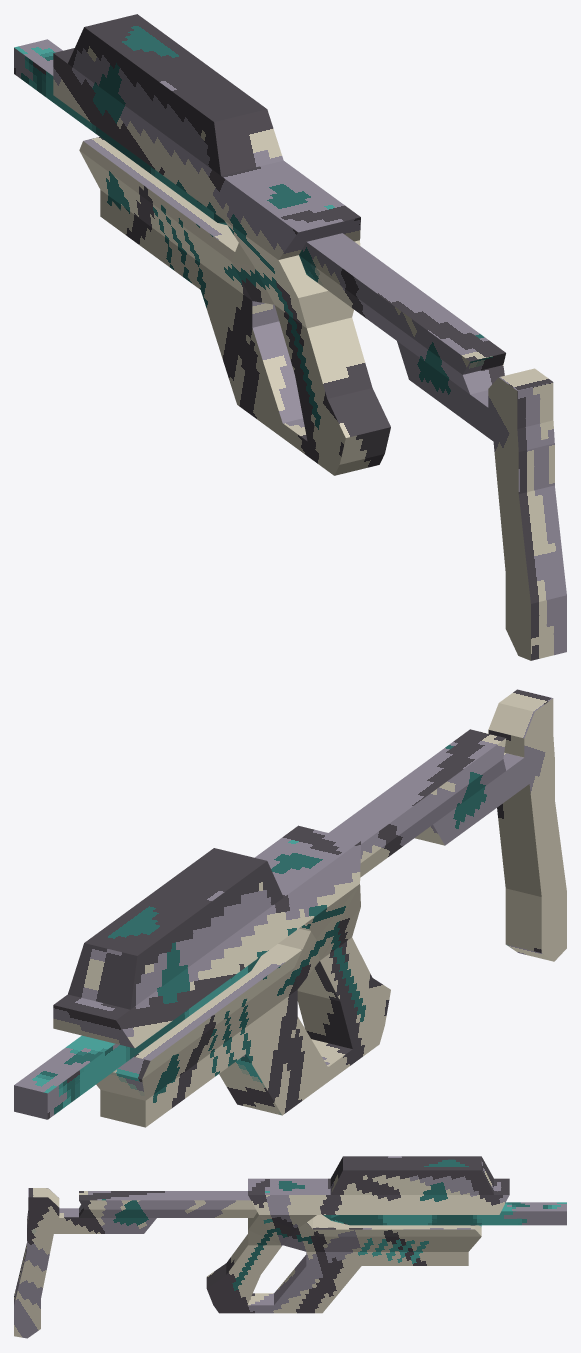
Rendered from psxgun.glb.
3 views of the same model, one above another, from view 1: azimuth 30°, elevation 25°; view 2: azimuth 150°, elevation 25°; view 3: azimuth 270°, elevation 25° (orthographic). The views are drawn at different scales.
Visible parts, largest first — view 1: Cube; view 2: Cube; view 3: Cube.
Part boxes in pixels (x1,y1,x2,y2): Cube: (14,14,566,660); Cube: (14,689,566,1127); Cube: (14,1156,566,1338).
Bounding box in the file's own units: 0.0763 × 0.2857 × 0.84.
1 material, 1 textured.
